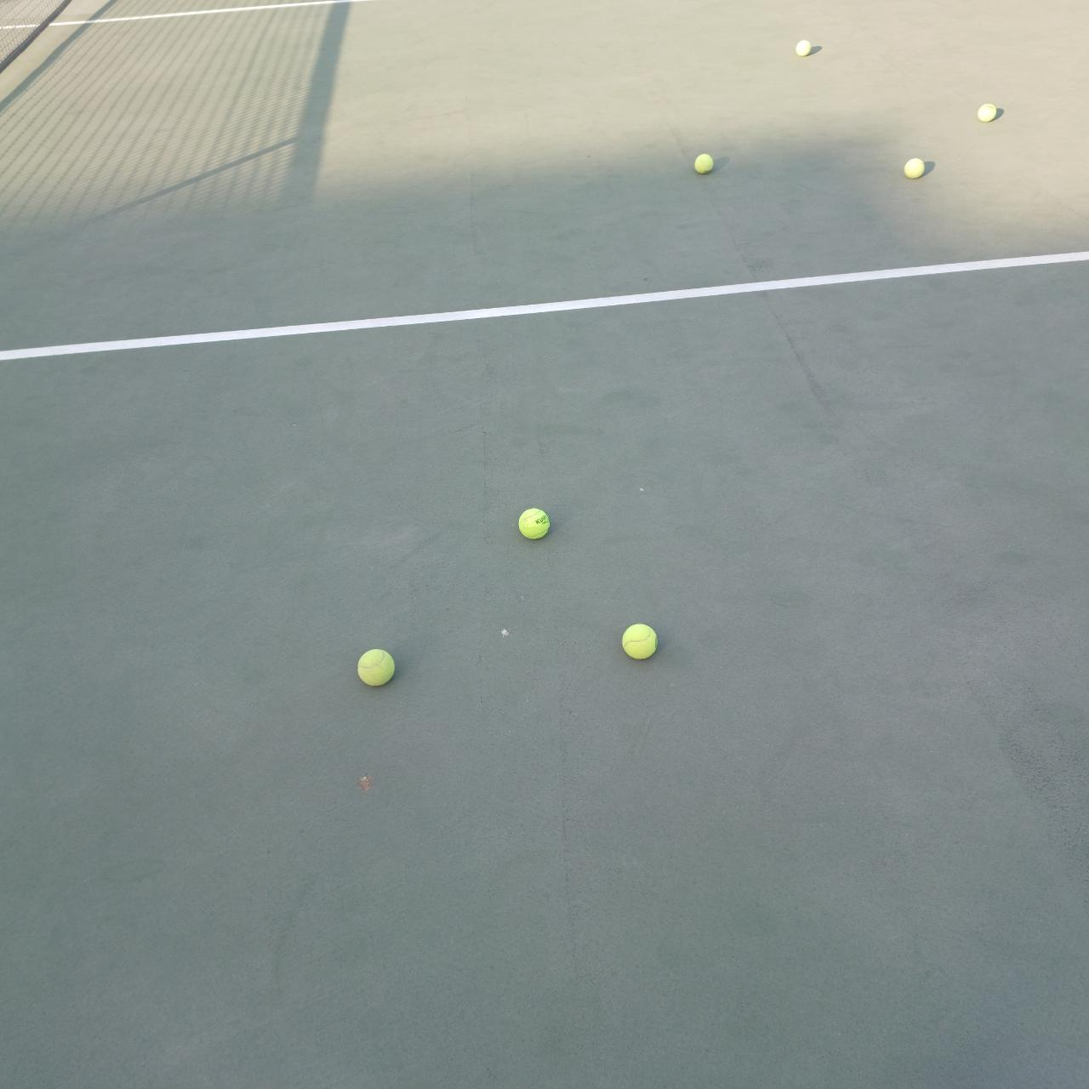tennis-ball: (356, 646, 396, 686), (619, 621, 658, 659), (516, 505, 550, 539), (902, 156, 924, 179), (694, 153, 714, 174), (977, 104, 996, 123), (796, 41, 811, 56)
